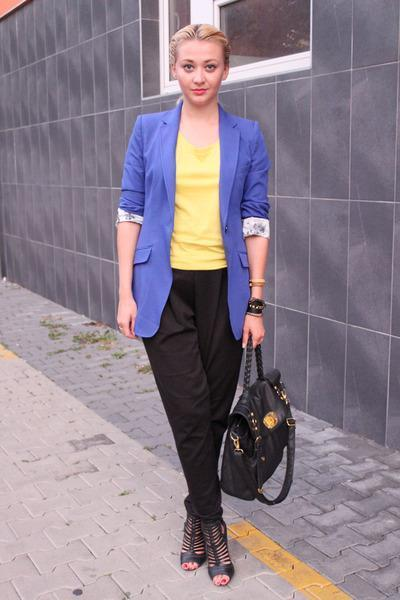bag: (209, 351, 295, 504)
jacket: (116, 108, 269, 356)
pants: (142, 267, 251, 536)
shirt: (170, 134, 226, 269)
shoe: (180, 512, 234, 586)
